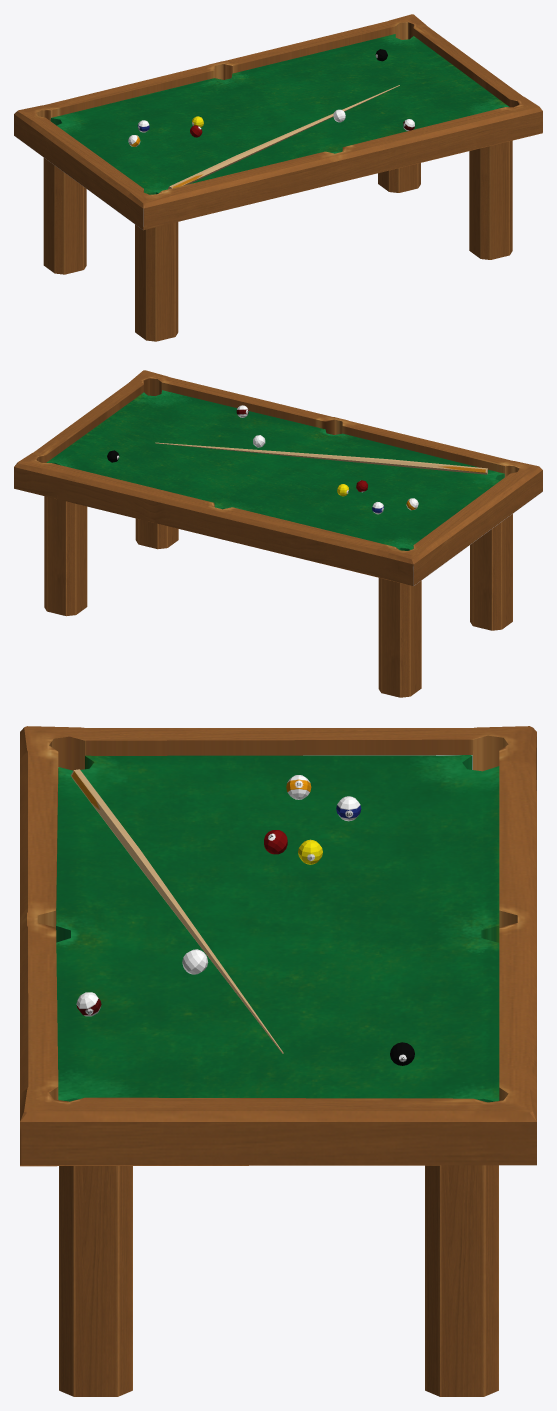
File: Billiard.fbx
The picture shows the model from 3 angles, top to bottom: view 1: azimuth 30°, elevation 25°; view 2: azimuth 150°, elevation 25°; view 3: azimuth 270°, elevation 25°; orthographic projection. The views are drawn at different scales.
Visible parts, largest first — view 1: polySurface1; view 2: polySurface1; view 3: polySurface1.
Boxes of the visible parts, x1,y1,x2,y2 form: polySurface1: (14, 14, 542, 341); polySurface1: (14, 370, 542, 697); polySurface1: (20, 726, 536, 1396).
Size of the model in its own units: 250 by 91.86 by 140.
